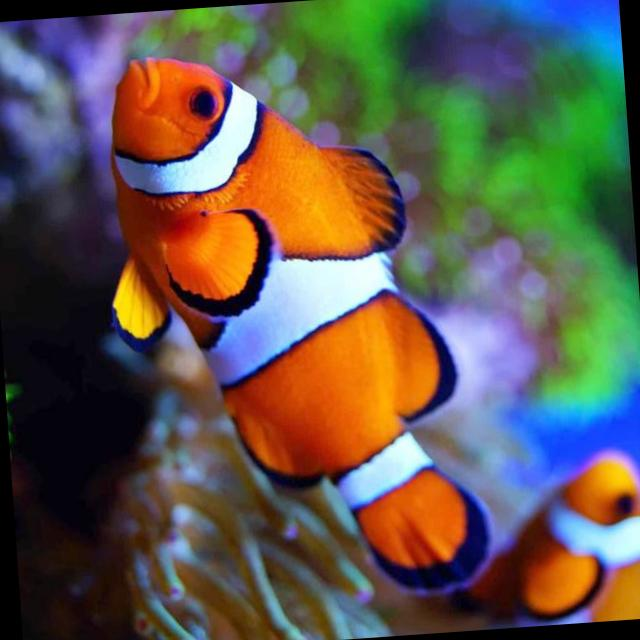ClownFish: (86, 22, 502, 618), (488, 444, 640, 628)
